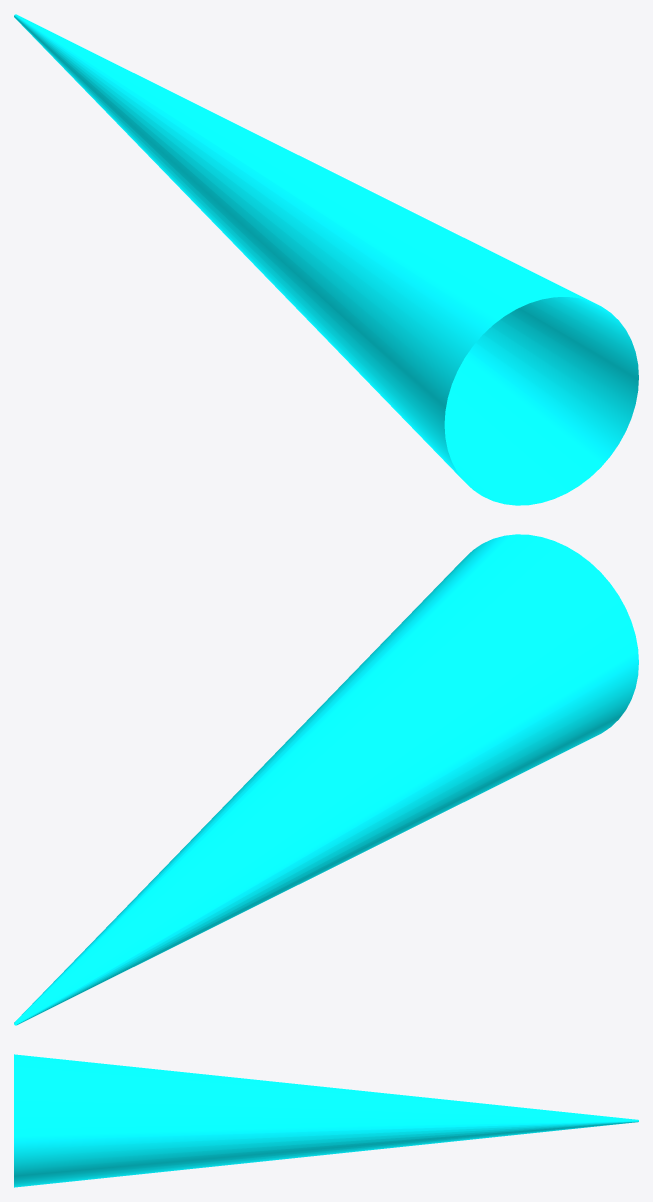
The model's file is nadir_beam_geo.glb.
3 renders of one model, top to bottom at view 1: azimuth 30°, elevation 25°; view 2: azimuth 150°, elevation 25°; view 3: azimuth 270°, elevation 25°, orthographic. The views are drawn at different scales.
Parts seen in each view (by area): view 1: NadirBeamNode; view 2: NadirBeamNode; view 3: NadirBeamNode.
Part boxes in pixels (<box>): NadirBeamNode: <box>14,14,638,505</box>; NadirBeamNode: <box>14,534,638,1025</box>; NadirBeamNode: <box>14,1054,638,1187</box>.
Size of the model in its own units: 9.6 by 9.6 by 45.
